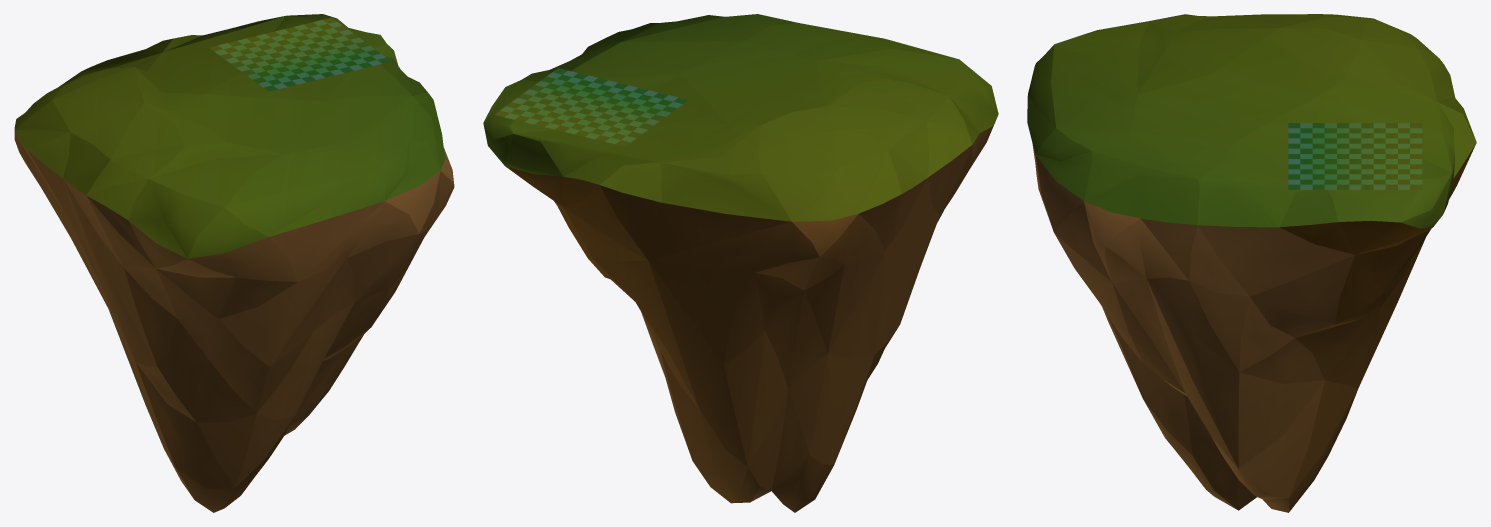
3 renders of one model, left to right at view 1: azimuth 30°, elevation 25°; view 2: azimuth 150°, elevation 25°; view 3: azimuth 270°, elevation 25°, orthographic. The views are drawn at different scales.
Visible parts, largest first — view 1: rock_1, plane_map; view 2: rock_1, plane_map; view 3: rock_1, plane_map.
Part boxes in pixels (x1,y1,x2,y2): rock_1: [14, 14, 454, 512]; plane_map: [209, 17, 391, 91]; rock_1: [483, 14, 998, 512]; plane_map: [494, 68, 688, 146]; rock_1: [1027, 14, 1476, 512]; plane_map: [1288, 123, 1422, 189].
Size of the model in its own units: 3939 by 4188 by 3694.
